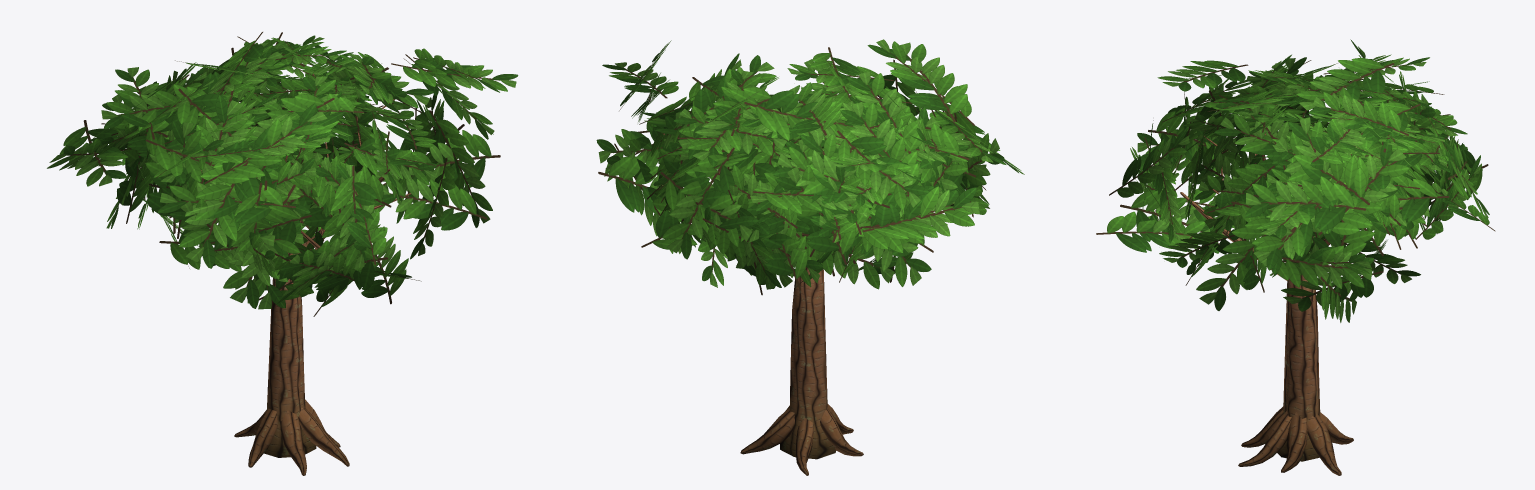
File: tree_lod.glb
3 renders of one model, left to right at view 1: azimuth 30°, elevation 25°; view 2: azimuth 150°, elevation 25°; view 3: azimuth 270°, elevation 25°, orthographic. The views are drawn at different scales.
Visible parts, largest first — view 1: Leaves, Trunk, Roots; view 2: Leaves, Trunk, Roots; view 3: Leaves, Trunk, Roots.
Part boxes in pixels (x1,y1,x2,y2): Leaves: (47, 32, 518, 316); Trunk: (255, 253, 316, 457); Roots: (234, 399, 349, 475); Leaves: (596, 39, 1024, 295); Trunk: (780, 234, 835, 459); Roots: (740, 404, 863, 475); Leaves: (1096, 39, 1495, 322); Trunk: (1277, 274, 1320, 461); Roots: (1238, 406, 1353, 475).
Size of the model in its own units: 7.41 by 6.18 by 6.15.
2 materials, 2 textured.
